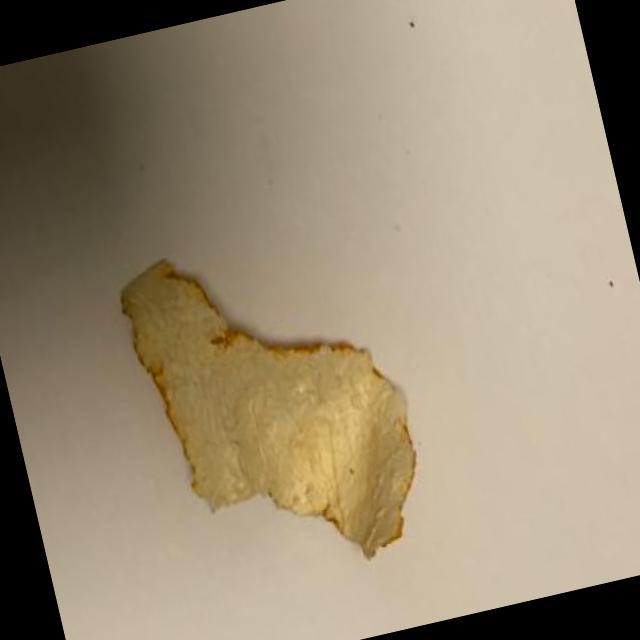vo_trai_cay: (119, 263, 415, 558)
